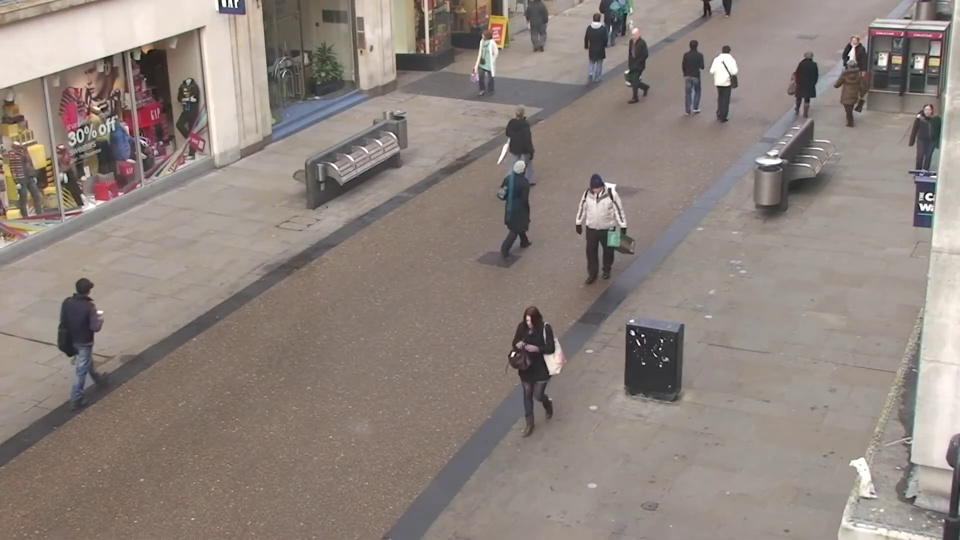pedestrian: (73, 264, 132, 397), (505, 305, 551, 451), (898, 104, 943, 201), (573, 178, 608, 292), (509, 149, 544, 255), (829, 53, 864, 135), (512, 98, 543, 189), (834, 34, 868, 111), (789, 46, 820, 125), (711, 40, 739, 116), (683, 36, 709, 110), (470, 30, 495, 101), (616, 25, 639, 96), (587, 9, 610, 75)
